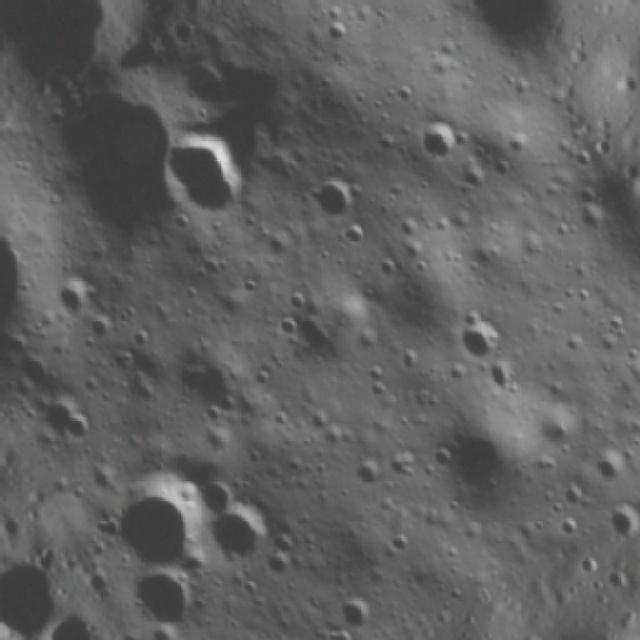crater: (26, 66, 208, 251), (414, 396, 541, 527), (153, 106, 270, 234), (102, 465, 224, 583), (156, 334, 261, 441), (119, 544, 226, 640), (193, 488, 281, 574), (35, 378, 114, 459), (440, 303, 517, 380), (402, 104, 476, 174), (282, 299, 351, 373), (304, 167, 376, 235), (526, 396, 588, 458), (41, 266, 99, 329), (579, 442, 638, 498), (332, 580, 386, 638), (79, 304, 123, 350), (309, 612, 371, 640), (312, 15, 352, 54), (635, 291, 640, 352)
